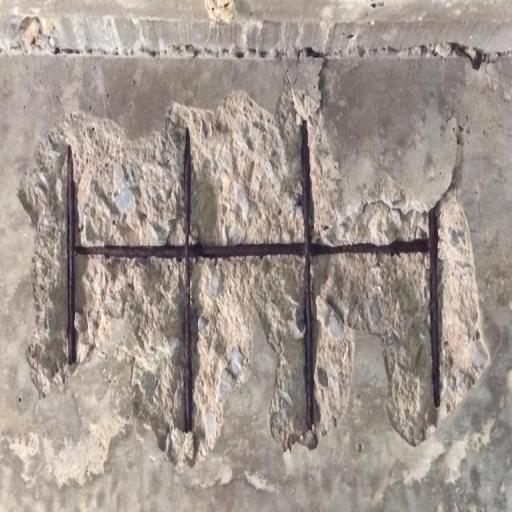spalling: (18, 73, 503, 463)
